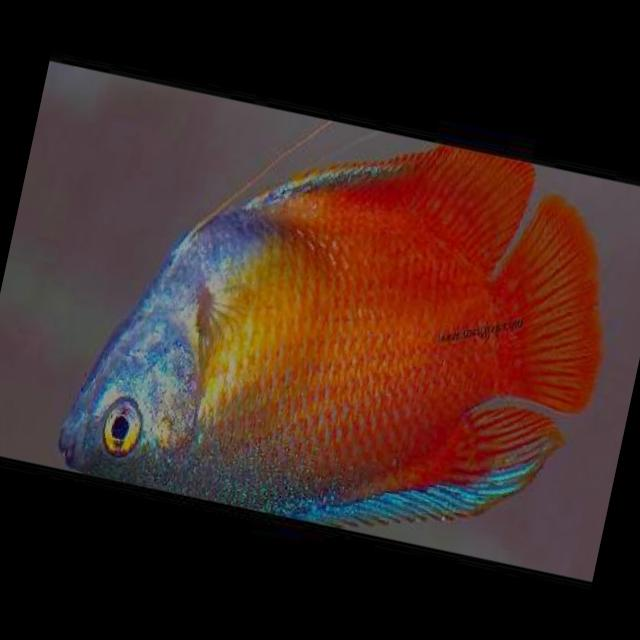Gourami: (50, 78, 638, 574)
